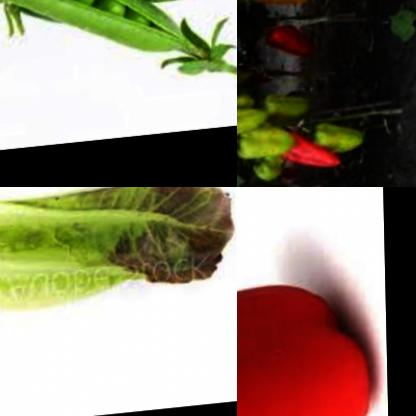bell pepper: (237, 273, 382, 416), (272, 139, 343, 184), (237, 123, 298, 171), (310, 126, 369, 168), (259, 26, 314, 69), (254, 94, 306, 134), (237, 0, 311, 19), (247, 152, 286, 187), (237, 109, 261, 150), (237, 90, 251, 119)
peas: (0, 0, 237, 136)
salad: (0, 187, 237, 319)
